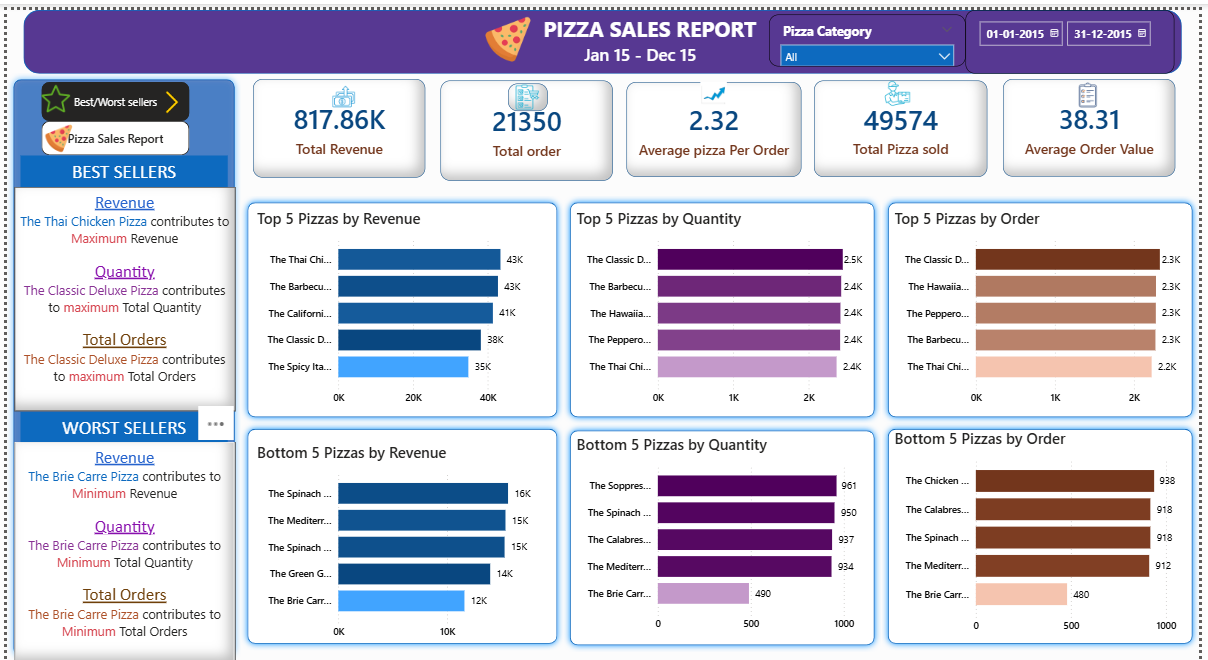

The page's visual inventory and layout, read from the dashboard file:
{"tool":"powerbi","page":{"name":"Best/Worst sellers","canvas":[1500,820],"ordinal":1},"visuals":[{"type":"shape","box":[0,79.2,294.3,741.4],"z":0},{"type":"card","fields":{"Values":["pizza_sales.Total Revenue"]},"box":[309.4,86.8,217,123.7],"z":0,"group":"g1"},{"type":"pageNavigator","box":[43.4,90.6,186.8,49.1],"z":0,"group":"g6"},{"type":"group","id":"g1","title":"Group 1","box":[309.4,86.8,217,122.6],"z":1000},{"type":"card","fields":{"Values":["pizza_sales.Total order"]},"box":[545.2,89,217,125.8],"z":1000,"group":"g2"},{"type":"image","box":[184.9,101.9,45.3,28.3],"z":1000,"group":"g6"},{"type":"group","id":"g2","title":"Group 2","box":[545.2,89,217,125.8],"z":2000},{"type":"card","fields":{"Values":["pizza_sales.Total Pizza sold"]},"box":[1014.2,89,218,121.4],"z":2000,"group":"g4"},{"type":"card","fields":{"Values":["pizza_sales.Average Order Value"]},"box":[1251.9,86.8,216.9,122.9],"z":3000,"group":"g5"},{"type":"group","id":"g3","title":"Group 3","box":[778.6,91.1,219.1,119.3],"z":3000},{"type":"group","id":"g4","title":"Group 4","box":[1014.2,89,221.3,119.3],"z":4000},{"type":"card","fields":{"Values":["pizza_sales.Average pizza Per Order"]},"box":[778.6,91.1,220.1,119.3],"z":4000,"group":"g3"},{"type":"image","box":[1337.6,90.2,43.2,32.9],"z":4001,"group":"g5"},{"type":"image","box":[399.4,91.8,47.3,32.4],"z":4002,"group":"g1"},{"type":"image","box":[1093.9,89,51.4,32.9],"z":4003,"group":"g4"},{"type":"image","box":[629.6,93.4,49.9,34.7],"z":4004,"group":"g2"},{"type":"image","box":[864,91.1,49.4,32.9],"z":4005,"group":"g3"},{"type":"group","id":"g5","title":"Group 5","box":[1251.9,86.8,217,123.7],"z":5000},{"type":"shape","box":[21.2,0,1456.8,80.1],"z":6000},{"type":"textbox","box":[669.5,0,299.4,70.7],"z":7000},{"type":"textbox","box":[721.3,35.4,153.2,44.8],"z":8000},{"type":"image","box":[591.7,7.1,75.4,58.9],"z":9000},{"type":"shape","box":[295.1,234.3,405.7,286.4],"z":10000},{"type":"textbox","box":[17.4,182.3,260.4,41.2],"z":11000},{"type":"textbox","box":[8.7,223.5,277.7,282.1],"z":12000},{"type":"textbox","box":[17.4,505.5,260.4,41.2],"z":13000},{"type":"textbox","box":[8.7,542.4,277.7,277.7],"z":14000},{"type":"slicer","fields":{"Values":["pizza_sales.pizza_category"]},"box":[959,6.5,247.3,65.1],"z":15000},{"type":"slicer","fields":{"Values":["pizza_sales.order_date"]},"box":[1206.4,0,262.5,80.3],"z":16000},{"type":"shape","box":[700.8,234.3,399.2,286.4],"z":17000},{"type":"shape","box":[1100.1,234.3,399.2,286.4],"z":18000},{"type":"shape","box":[295.1,518.6,405.7,286.4],"z":19000},{"type":"shape","box":[700.8,520.7,399.2,286.4],"z":20000},{"type":"shape","box":[1100.1,518.6,399.2,286.4],"z":21000},{"type":"barChart","title":"Top 5 Pizzas by Revenue","fields":{"Category":["pizza_sales.pizza_name"],"Y":["pizza_sales.Total Revenue"]},"box":[310.3,249.5,375.4,256],"z":22000},{"type":"barChart","title":"Bottom 5 Pizzas by Revenue","fields":{"Category":["pizza_sales.pizza_name"],"Y":["pizza_sales.Total Revenue"]},"box":[310.3,542.4,375.4,256],"z":23000},{"type":"barChart","title":"Top 5 Pizzas by Quantity","fields":{"Category":["pizza_sales.pizza_name"],"Y":["pizza_sales.Total Pizza sold"]},"box":[710.6,249.5,375.4,256],"z":24000},{"type":"barChart","title":"Bottom 5 Pizzas by Quantity","fields":{"Category":["pizza_sales.pizza_name"],"Y":["pizza_sales.Total Pizza sold"]},"box":[710.6,533.8,375.4,256],"z":25000},{"type":"barChart","title":"Top 5 Pizzas by Order","fields":{"Category":["pizza_sales.pizza_name"],"Y":["pizza_sales.Total order"]},"box":[1110.9,249.5,375.4,256],"z":26000},{"type":"barChart","title":"Bottom 5 Pizzas by Order","fields":{"Category":["pizza_sales.pizza_name"],"Y":["pizza_sales.Total order"]},"box":[1111.2,526.3,375.4,266],"z":27000},{"type":"pageNavigator","box":[43.4,139.6,186.8,43.4],"z":28000},{"type":"group","id":"g6","title":"Group 6","box":[43.4,90.6,186.8,49.1],"z":29000},{"type":"image","box":[43.4,143.4,43.4,35.8],"z":30000},{"type":"image","box":[43.4,84.9,35.8,52.8],"z":31000}]}

Visuals, with their boxes in screenshot pixels (x1, y1, x2, y2), scaled from the page's 1500x820 canvas onto the 1208x660 screenshot:
shape: <bbox>0, 64, 237, 659</bbox>
card - pizza_sales.Total Revenue: <bbox>249, 70, 424, 169</bbox>
pageNavigator: <bbox>35, 73, 185, 112</bbox>
"Group 1" group: <bbox>249, 70, 424, 169</bbox>
card - pizza_sales.Total order: <bbox>439, 72, 614, 173</bbox>
image: <bbox>149, 82, 185, 105</bbox>
"Group 2" group: <bbox>439, 72, 614, 173</bbox>
card - pizza_sales.Total Pizza sold: <bbox>817, 72, 992, 169</bbox>
card - pizza_sales.Average Order Value: <bbox>1008, 70, 1183, 169</bbox>
"Group 3" group: <bbox>627, 73, 803, 169</bbox>
"Group 4" group: <bbox>817, 72, 995, 168</bbox>
card - pizza_sales.Average pizza Per Order: <bbox>627, 73, 804, 169</bbox>
image: <bbox>1077, 73, 1112, 99</bbox>
image: <bbox>322, 74, 360, 100</bbox>
image: <bbox>881, 72, 922, 98</bbox>
image: <bbox>507, 75, 547, 103</bbox>
image: <bbox>696, 73, 736, 100</bbox>
"Group 5" group: <bbox>1008, 70, 1183, 169</bbox>
shape: <bbox>17, 0, 1190, 64</bbox>
textbox: <bbox>539, 0, 780, 57</bbox>
textbox: <bbox>581, 28, 704, 65</bbox>
image: <bbox>477, 6, 537, 53</bbox>
shape: <bbox>238, 189, 564, 419</bbox>
textbox: <bbox>14, 147, 224, 180</bbox>
textbox: <bbox>7, 180, 231, 407</bbox>
textbox: <bbox>14, 407, 224, 440</bbox>
textbox: <bbox>7, 437, 231, 659</bbox>
slicer - pizza_sales.pizza_category: <bbox>772, 5, 971, 58</bbox>
slicer - pizza_sales.order_date: <bbox>972, 0, 1183, 65</bbox>
shape: <bbox>564, 189, 886, 419</bbox>
shape: <bbox>886, 189, 1207, 419</bbox>
shape: <bbox>238, 417, 564, 648</bbox>
shape: <bbox>564, 419, 886, 650</bbox>
shape: <bbox>886, 417, 1207, 648</bbox>
"Top 5 Pizzas by Revenue" barChart: <bbox>250, 201, 552, 407</bbox>
"Bottom 5 Pizzas by Revenue" barChart: <bbox>250, 437, 552, 643</bbox>
"Top 5 Pizzas by Quantity" barChart: <bbox>572, 201, 875, 407</bbox>
"Bottom 5 Pizzas by Quantity" barChart: <bbox>572, 430, 875, 636</bbox>
"Top 5 Pizzas by Order" barChart: <bbox>895, 201, 1197, 407</bbox>
"Bottom 5 Pizzas by Order" barChart: <bbox>895, 424, 1197, 638</bbox>
pageNavigator: <bbox>35, 112, 185, 147</bbox>
"Group 6" group: <bbox>35, 73, 185, 112</bbox>
image: <bbox>35, 115, 70, 144</bbox>
image: <bbox>35, 68, 64, 111</bbox>
